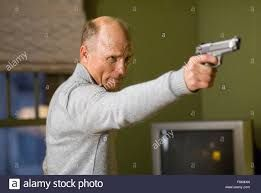gun: (190, 31, 242, 79)
